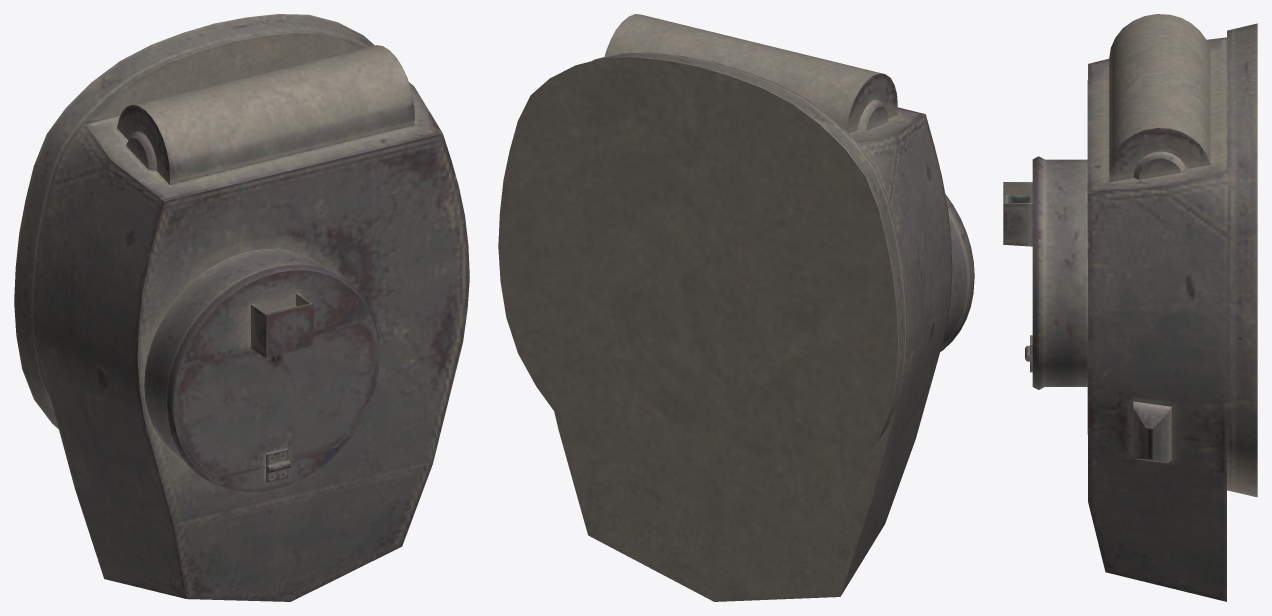
Rendered from Turret_01.glb.
3 renders of one model, left to right at view 1: azimuth 30°, elevation 25°; view 2: azimuth 150°, elevation 25°; view 3: azimuth 270°, elevation 25°, orthographic. The views are drawn at different scales.
Parts seen in each view (by area): view 1: set_0_group_0; view 2: set_0_group_0; view 3: set_0_group_0.
Boxes of the visible parts, left/top/right/bottom form: set_0_group_0: left=14, top=14, right=469, bottom=601; set_0_group_0: left=498, top=14, right=974, bottom=601; set_0_group_0: left=1003, top=14, right=1257, bottom=601.
Size of the model in its own units: 1.32 by 1.73 by 0.761.
1 material, 1 textured.
